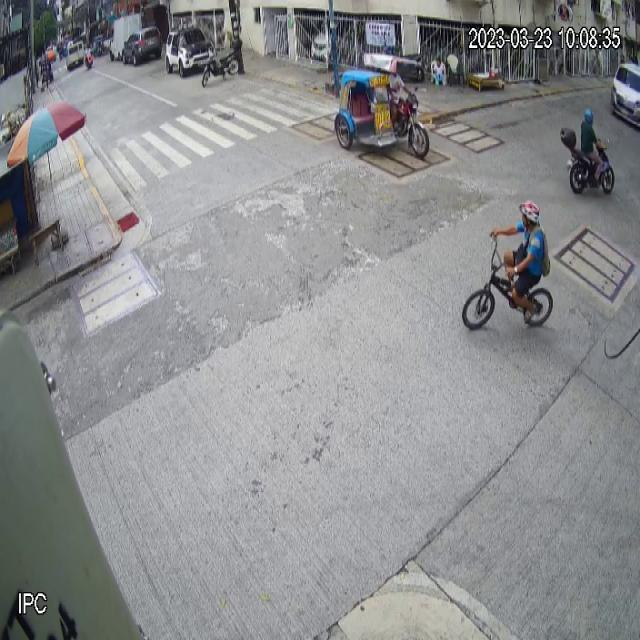Motorcycle: (560, 125, 616, 196)
Tricycle: (333, 52, 430, 159)
